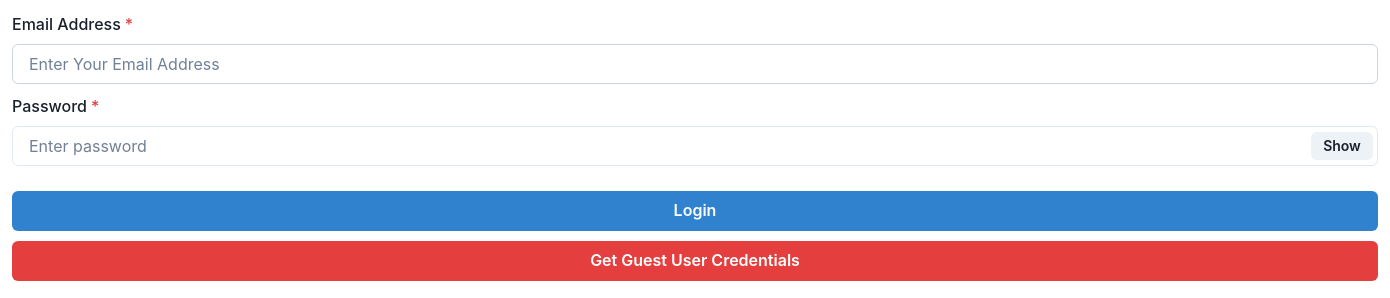
Login Component › should fill guest credentials on button click
Click the button "Get Guest User Credentials" at (695, 261), box 12,241 -> 1378,281
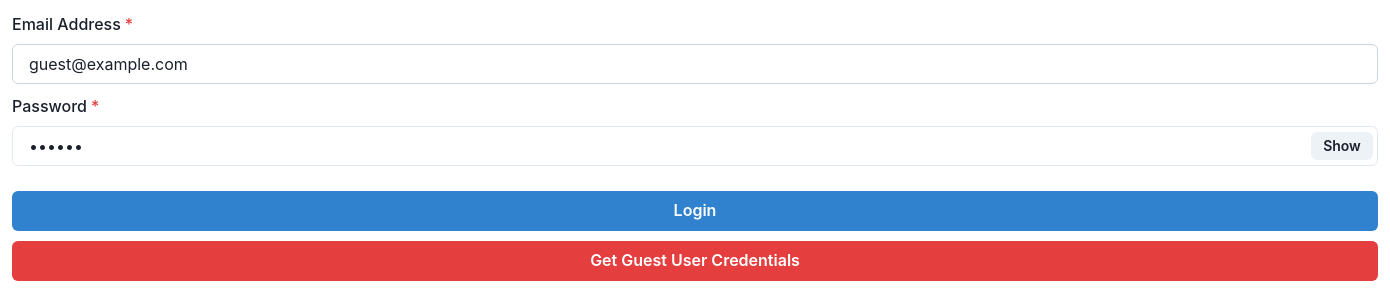
Expected: the field with placeholder "Enter Your Email Address" holds "guest@example.com", 12,44 -> 1378,84
Expected: the password field with placeholder "Enter password" holds "123456", 12,126 -> 1378,166
